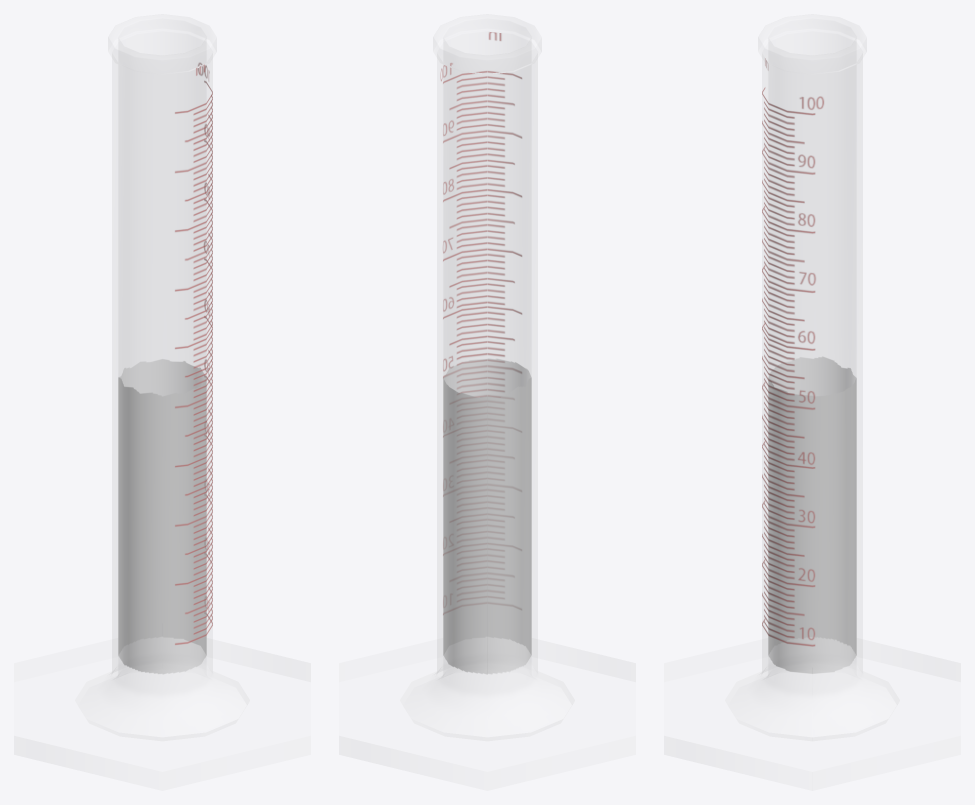
The model's file is 脱脂牛奶.glb.
The picture shows the model from 3 angles, left to right: view 1: azimuth 30°, elevation 25°; view 2: azimuth 150°, elevation 25°; view 3: azimuth 270°, elevation 25°; orthographic projection.
Visible parts, largest first — view 1: Cylinder002; view 2: Cylinder002; view 3: Cylinder002.
Part boxes in pixels (box(x1,y1,x2,y2)): Cylinder002: box(107, 18, 217, 680); Cylinder002: box(432, 31, 542, 719); Cylinder002: box(757, 37, 867, 740).
Size of the model in its own units: 0.2199 by 0.4825 by 0.1904.
2 materials, 2 textured.
